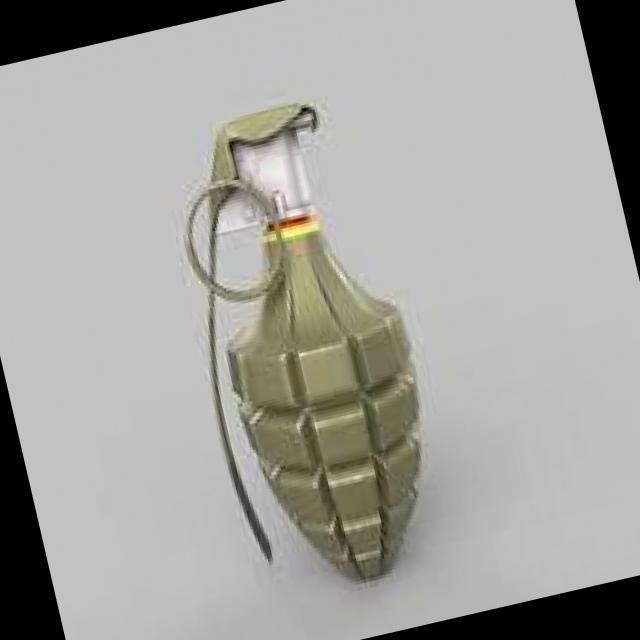grenade: (148, 73, 458, 608)
